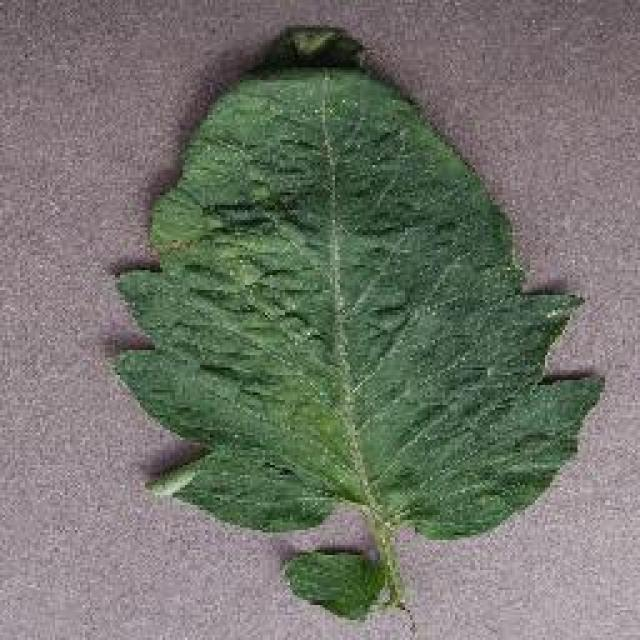Tom_Target_Spot: (145, 208, 211, 272)
